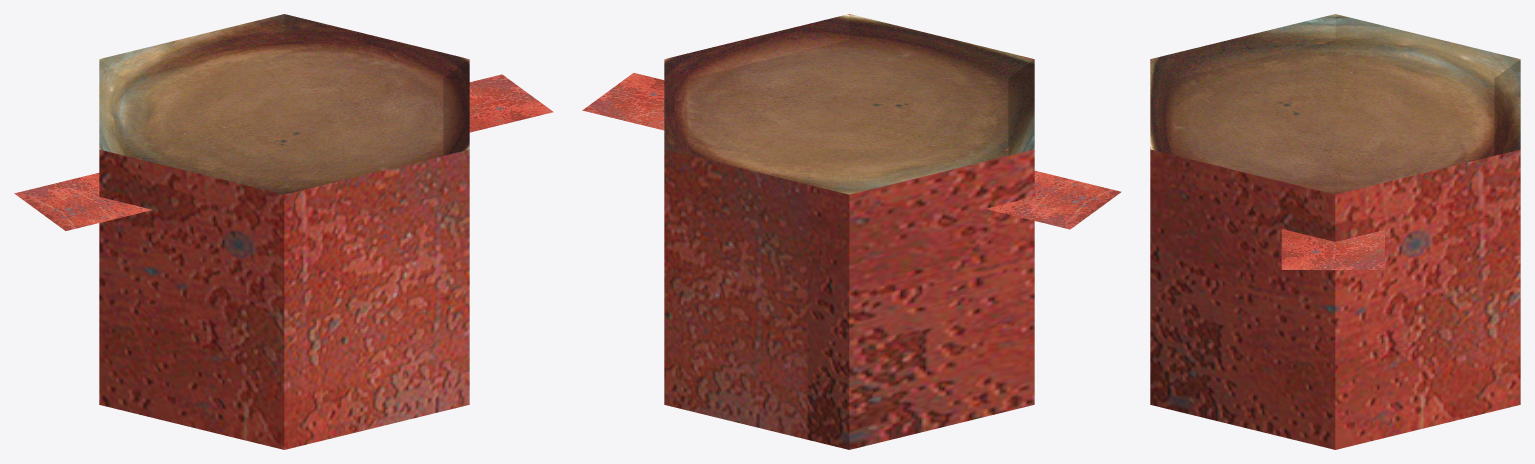
File: Prop_SM_CopperPot.fbx
3 renders of one model, left to right at view 1: azimuth 30°, elevation 25°; view 2: azimuth 150°, elevation 25°; view 3: azimuth 270°, elevation 25°, orthographic.
Visible parts, largest first — view 1: CopperPot_Tall; view 2: CopperPot_Tall; view 3: CopperPot_Tall.
Part boxes in pixels (x1,y1,x2,y2): CopperPot_Tall: (14, 14, 553, 449); CopperPot_Tall: (582, 14, 1121, 449); CopperPot_Tall: (1150, 14, 1520, 449).
Size of the model in its own units: 0.5465 by 0.2731 by 0.359.
